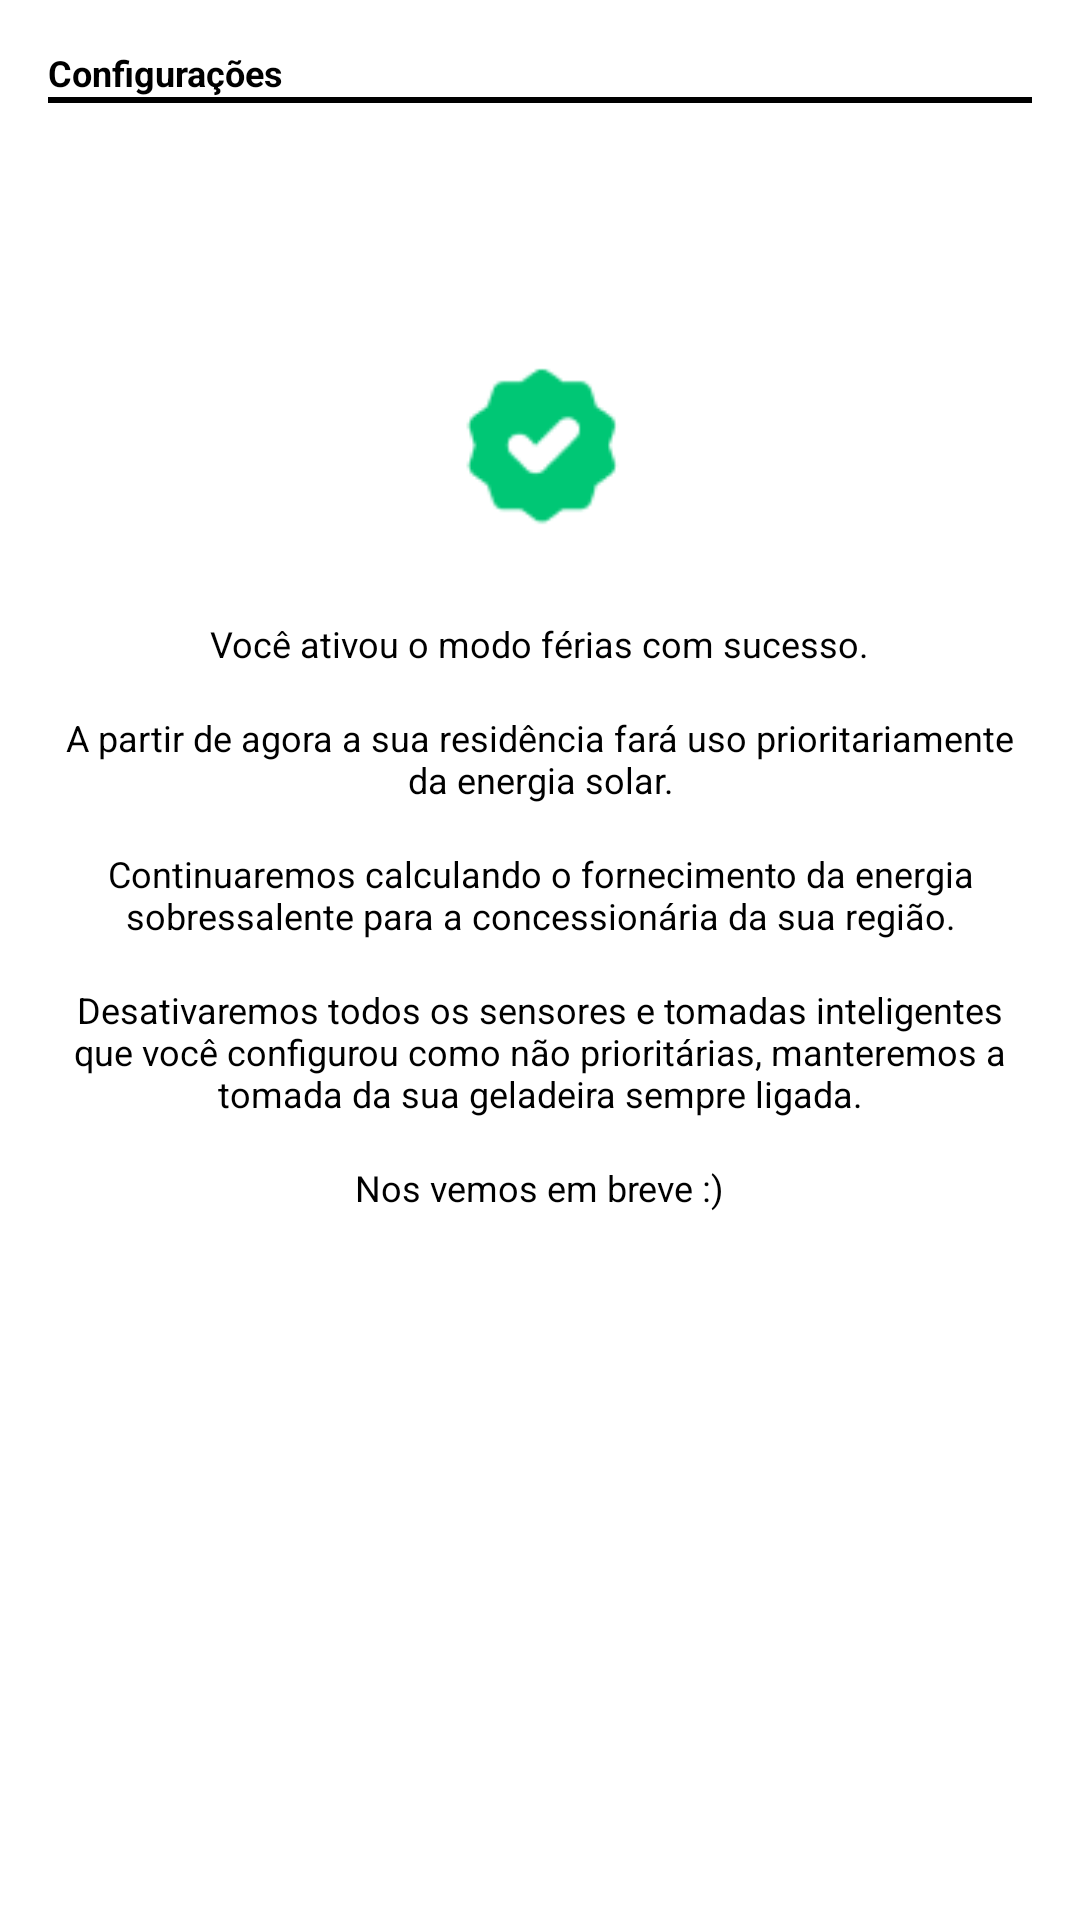

Screen size 1080px x 1920px. Icon name, then its center in pixels as [x,y]:
success: [541,446]
